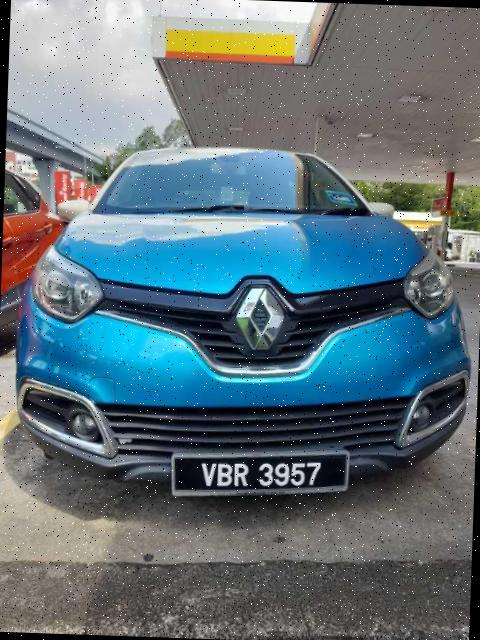License_Plate: (169, 444, 351, 504)
car: (11, 139, 480, 507)
